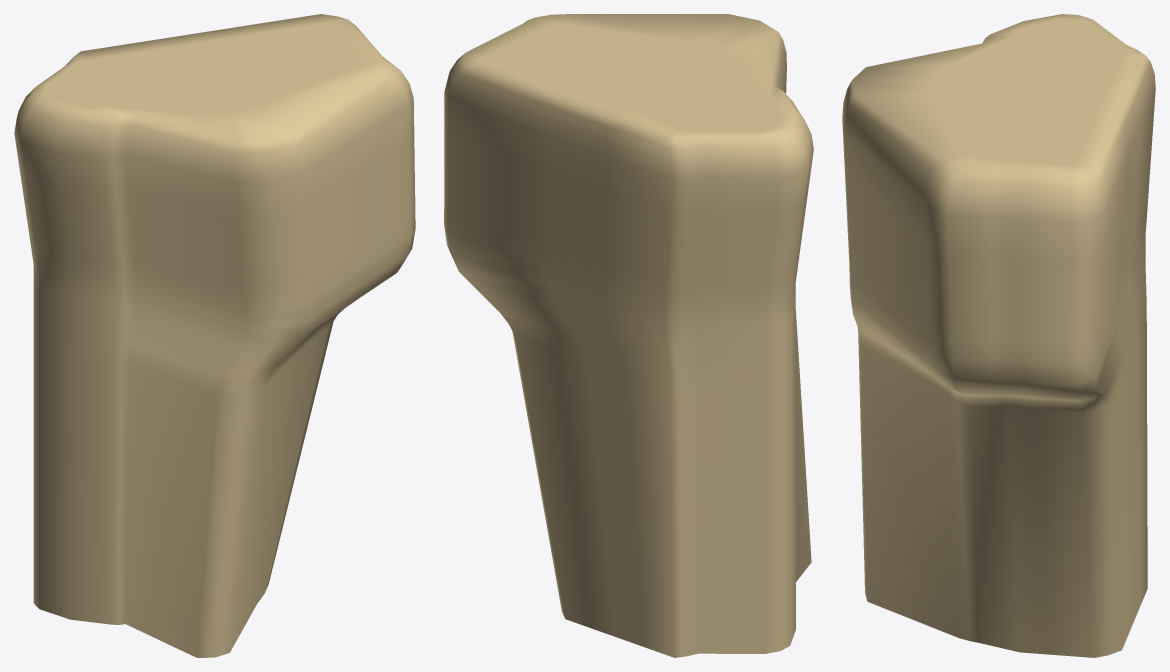
Rendered from Rock05_MESH.FBX.
3 renders of one model, left to right at view 1: azimuth 30°, elevation 25°; view 2: azimuth 150°, elevation 25°; view 3: azimuth 270°, elevation 25°, orthographic. The views are drawn at different scales.
Visible parts, largest first — view 1: Rock05_low; view 2: Rock05_low; view 3: Rock05_low.
Part boxes in pixels (x1,y1,x2,y2): Rock05_low: (14, 14, 415, 657); Rock05_low: (444, 14, 813, 657); Rock05_low: (842, 14, 1155, 657).
Bounding box in the file's own units: 186 × 256 × 135.
